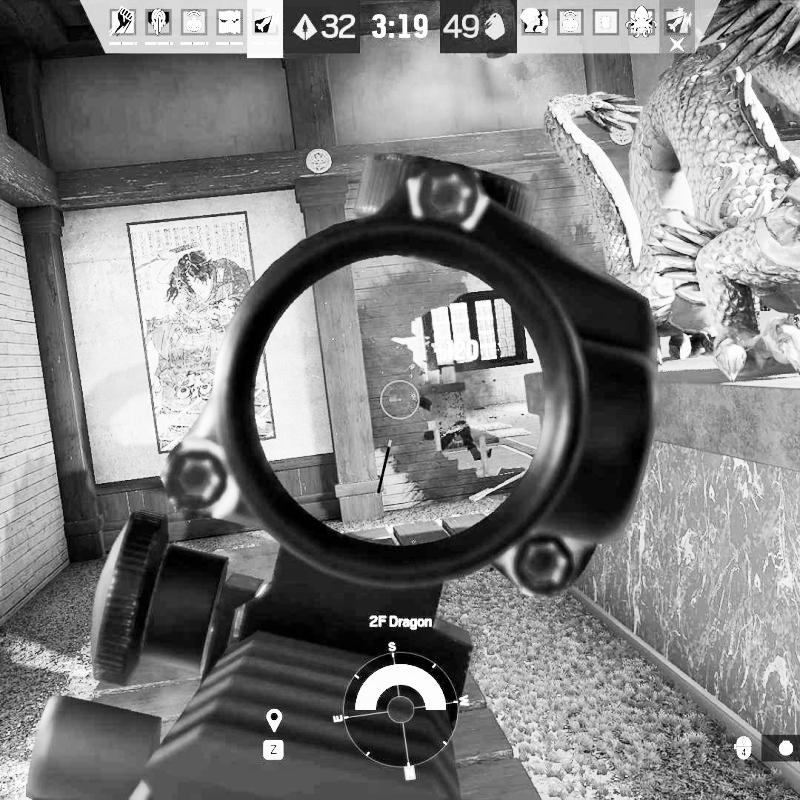Character: (435, 417, 488, 462)
